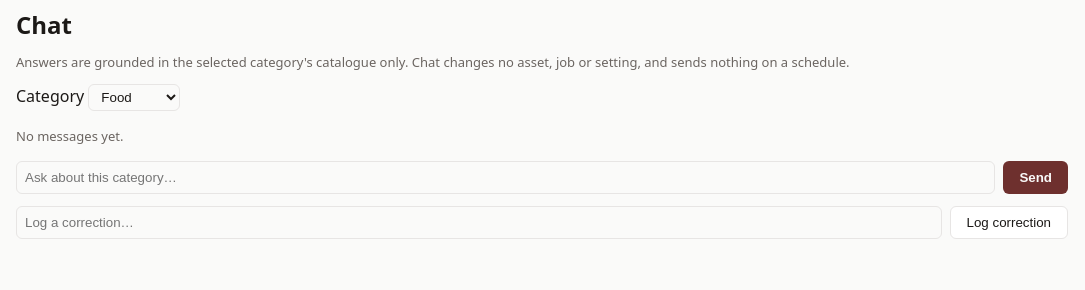
Test: ChatPage › logging a correction posts the explicit action
Type "the milk is open" into the field labelled "correction".
click(479, 222); type("the milk is open")  # box [16, 206, 942, 239]
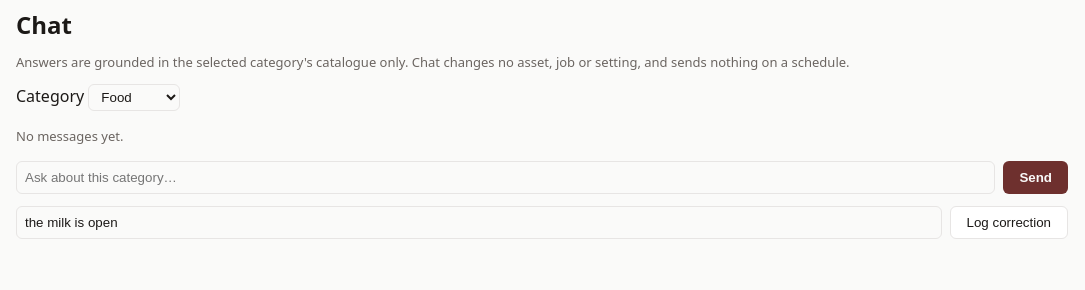
Click the button "Log correction".
click(1009, 222)  # box [950, 206, 1068, 239]
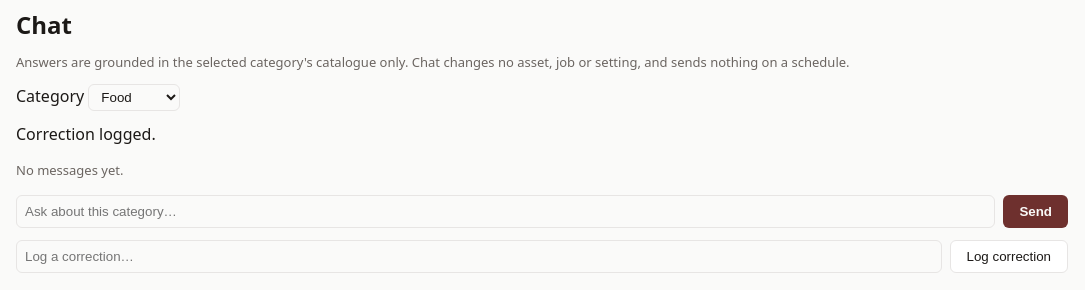
Now the message "Correction logged." is shown, box [16, 123, 156, 145]
